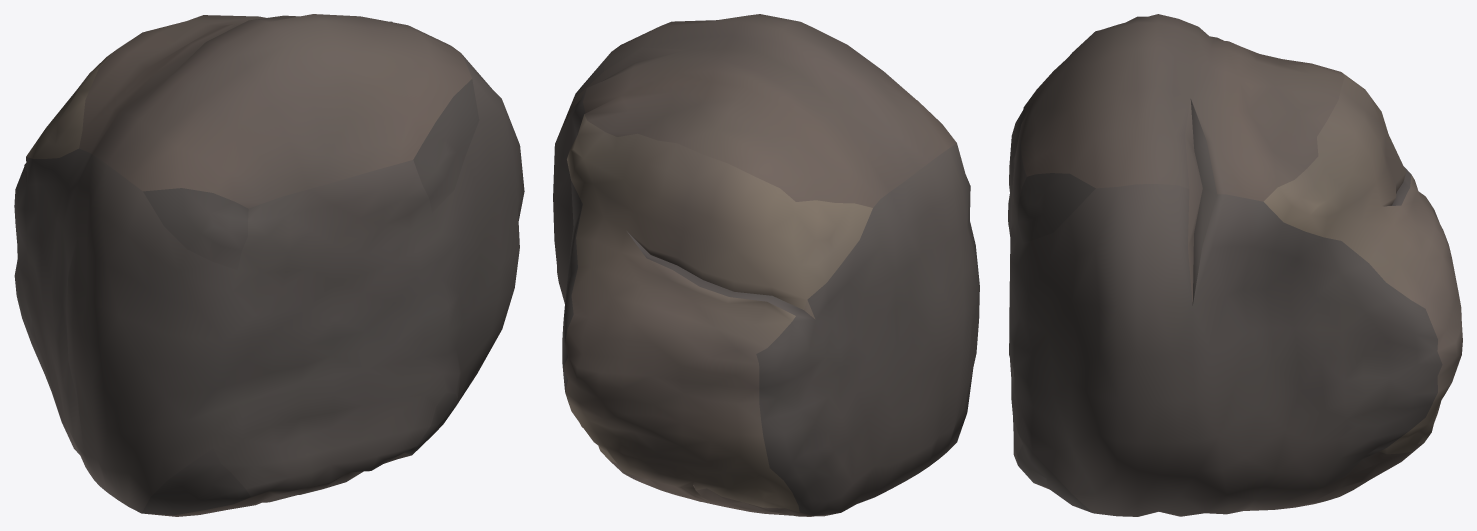
Rendered from RockHuge.003.glb.
The picture shows the model from 3 angles, left to right: view 1: azimuth 30°, elevation 25°; view 2: azimuth 150°, elevation 25°; view 3: azimuth 270°, elevation 25°; orthographic projection. The views are drawn at different scales.
Parts seen in each view (by area): view 1: RockHuge.003; view 2: RockHuge.003; view 3: RockHuge.003.
Part boxes in pixels (x1,y1,x2,y2): RockHuge.003: (14,14,524,516); RockHuge.003: (553,14,979,516); RockHuge.003: (1008,14,1462,516).
Size of the model in its own units: 2605 by 2698 by 2354.
